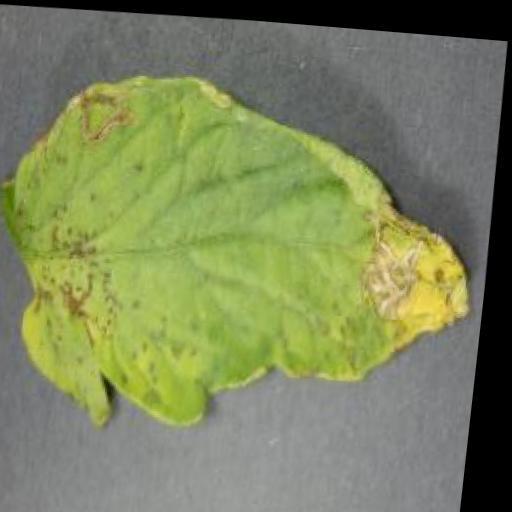Bacterial Spot: (0, 52, 501, 451)
